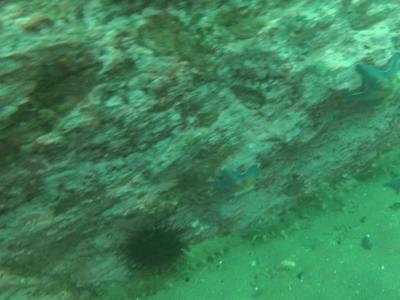holothurian: (167, 234, 248, 282), (250, 209, 312, 243), (90, 272, 166, 298), (305, 175, 360, 208)
urchin: (119, 220, 188, 272)
